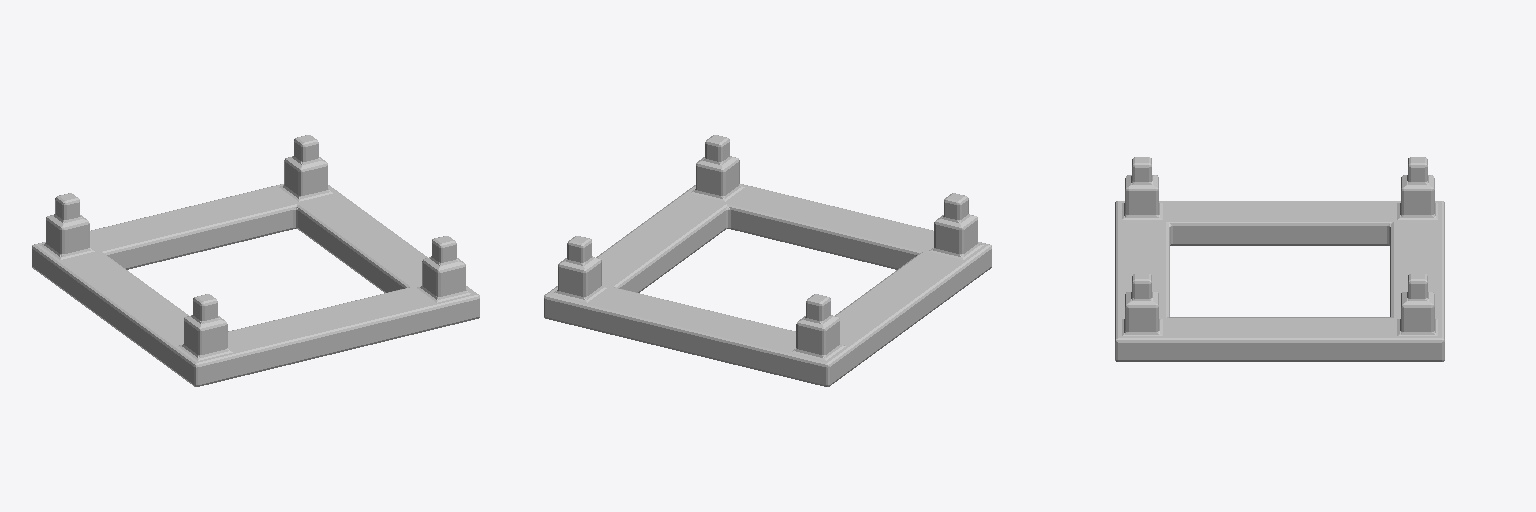
Rendered from selector.obj.
3 renders of one model, left to right at view 1: azimuth 30°, elevation 25°; view 2: azimuth 150°, elevation 25°; view 3: azimuth 270°, elevation 25°, orthographic.
Parts seen in each view (by area): view 1: Cube_Cube.001; view 2: Cube_Cube.001; view 3: Cube_Cube.001.
Part boxes in pixels (bbox=[...]): Cube_Cube.001: bbox=[32, 135, 479, 386]; Cube_Cube.001: bbox=[544, 135, 991, 386]; Cube_Cube.001: bbox=[1115, 157, 1444, 361].
Size of the model in its own units: 2 by 0.5024 by 2.